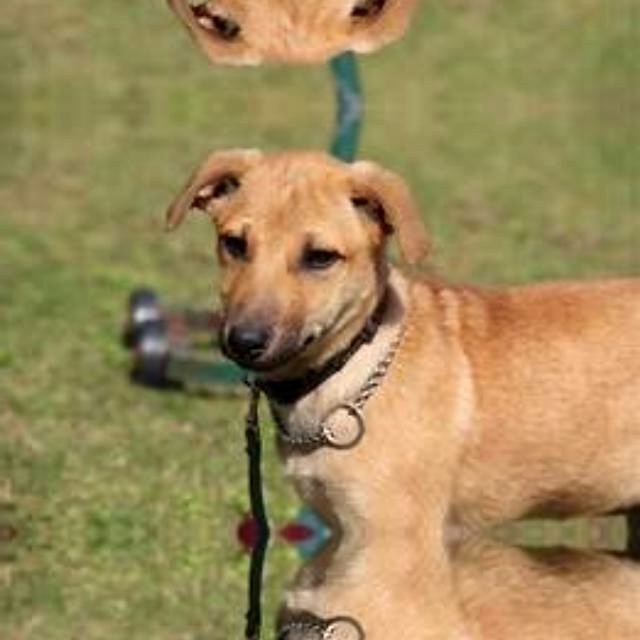dog: (145, 138, 494, 440), (145, 0, 494, 74), (145, 626, 494, 640)
